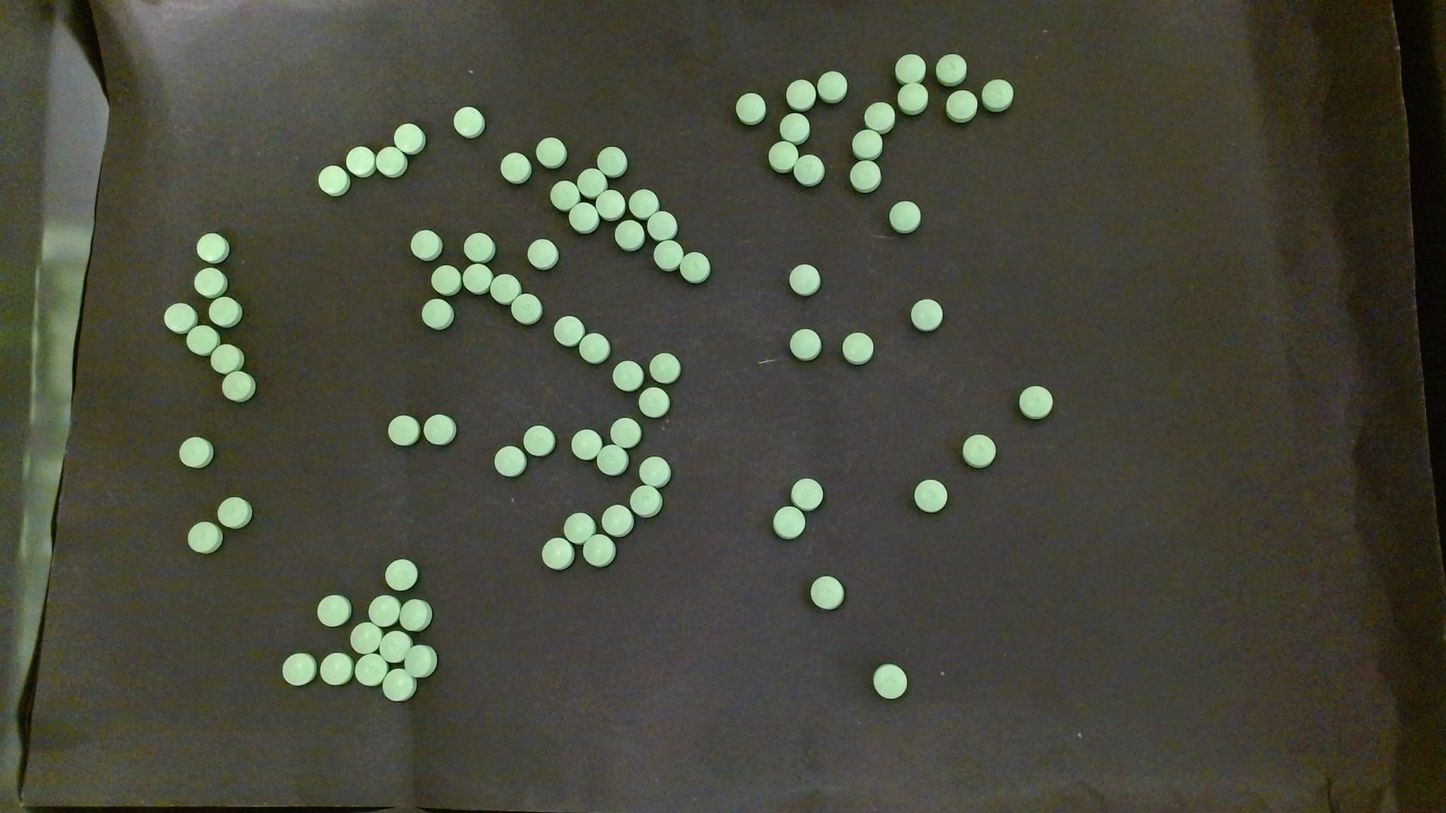Circle: (872, 663, 908, 700), (316, 593, 352, 628), (1017, 385, 1053, 419), (961, 433, 996, 467), (383, 558, 418, 592), (178, 436, 214, 469), (910, 297, 944, 331), (887, 199, 921, 233), (282, 652, 316, 686), (810, 575, 844, 609), (541, 537, 574, 571), (914, 479, 947, 513), (319, 651, 352, 685), (403, 644, 436, 678), (383, 668, 416, 702), (217, 496, 252, 528), (788, 263, 821, 296), (980, 77, 1013, 110), (221, 370, 255, 402), (187, 521, 221, 553), (355, 652, 387, 686), (773, 506, 805, 539), (493, 445, 526, 477), (583, 534, 615, 567), (841, 332, 874, 364), (317, 164, 350, 196), (452, 105, 484, 138), (399, 598, 431, 631), (789, 328, 821, 361), (637, 386, 670, 418), (350, 621, 382, 654), (368, 595, 400, 628), (648, 352, 681, 384), (194, 266, 227, 298), (563, 512, 595, 544), (421, 298, 453, 330), (387, 414, 419, 446), (639, 455, 671, 487), (945, 90, 977, 122), (393, 122, 425, 154), (791, 477, 822, 510), (849, 159, 880, 192), (423, 414, 456, 445), (187, 324, 220, 355), (210, 343, 243, 374), (163, 302, 196, 333), (208, 296, 241, 327), (195, 232, 229, 262), (601, 504, 633, 535), (852, 128, 883, 160), (767, 140, 798, 172), (596, 443, 627, 475), (571, 429, 602, 461), (679, 252, 710, 284), (897, 82, 928, 114), (816, 70, 847, 102), (379, 630, 410, 662), (785, 79, 816, 111), (410, 229, 442, 260), (535, 137, 566, 169), (463, 232, 495, 263), (374, 145, 406, 176), (614, 218, 644, 251), (523, 425, 554, 456), (579, 333, 610, 364), (630, 485, 661, 516), (612, 360, 643, 391), (779, 112, 810, 143), (895, 53, 926, 84), (596, 146, 627, 177), (936, 53, 967, 84), (793, 154, 823, 186), (735, 92, 765, 124), (611, 416, 641, 448), (431, 263, 461, 295), (653, 239, 683, 271), (490, 273, 520, 305), (577, 167, 607, 199), (511, 293, 541, 324), (500, 152, 530, 183), (554, 315, 584, 346), (527, 238, 557, 269), (863, 102, 894, 132), (646, 210, 676, 241), (462, 263, 492, 294), (569, 201, 598, 233), (550, 180, 579, 212), (345, 145, 374, 176), (596, 188, 624, 219), (630, 188, 658, 218)
